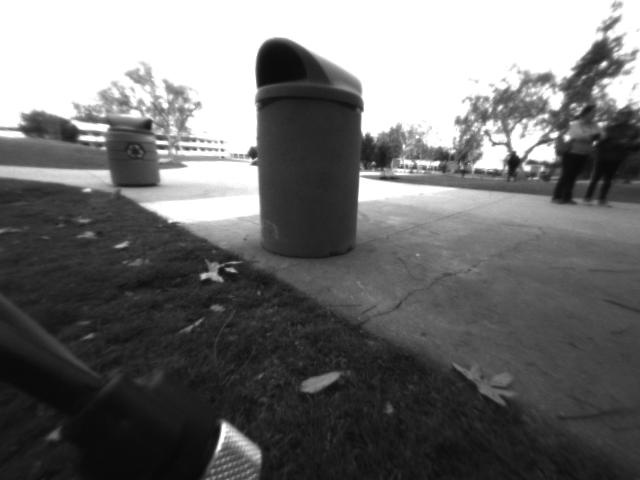trashcan: (253, 34, 366, 261)
